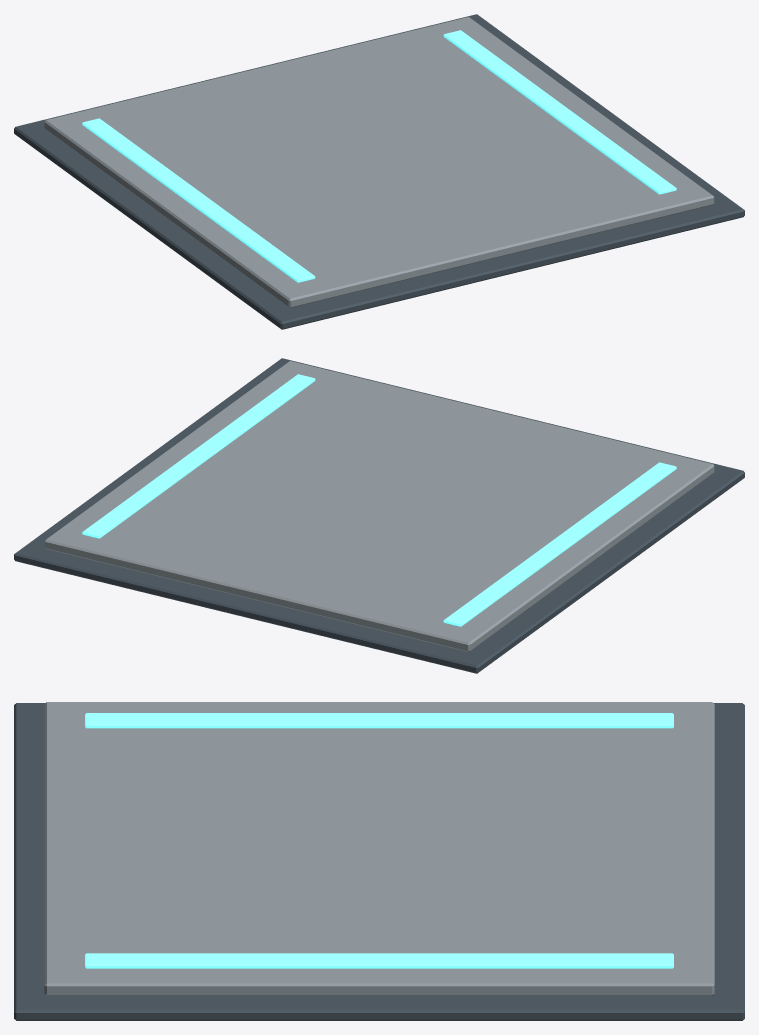
File: plate.glb
The picture shows the model from 3 angles, top to bottom: view 1: azimuth 30°, elevation 25°; view 2: azimuth 150°, elevation 25°; view 3: azimuth 270°, elevation 25°; orthographic projection. The views are drawn at different scales.
Parts seen in each view (by area): view 1: Plate_Panel, Plate_Base, Plate_Echo, Plate_Player; view 2: Plate_Panel, Plate_Base, Plate_Echo, Plate_Player; view 3: Plate_Panel, Plate_Base, Plate_Echo, Plate_Player.
Boxes of the visible parts, box(x1,y1,x2,y2) form: Plate_Panel: box(44, 17, 714, 307); Plate_Base: box(14, 14, 744, 329); Plate_Echo: box(443, 30, 676, 194); Plate_Player: box(82, 118, 315, 282); Plate_Panel: box(44, 361, 714, 651); Plate_Base: box(14, 358, 744, 673); Plate_Echo: box(82, 374, 315, 538); Plate_Player: box(443, 462, 676, 626); Plate_Panel: box(44, 702, 714, 995); Plate_Base: box(14, 703, 744, 1020); Plate_Echo: box(85, 953, 673, 968); Plate_Player: box(85, 713, 673, 728).
Bounding box in the file's own units: 1.8 × 0.078 × 1.8.
